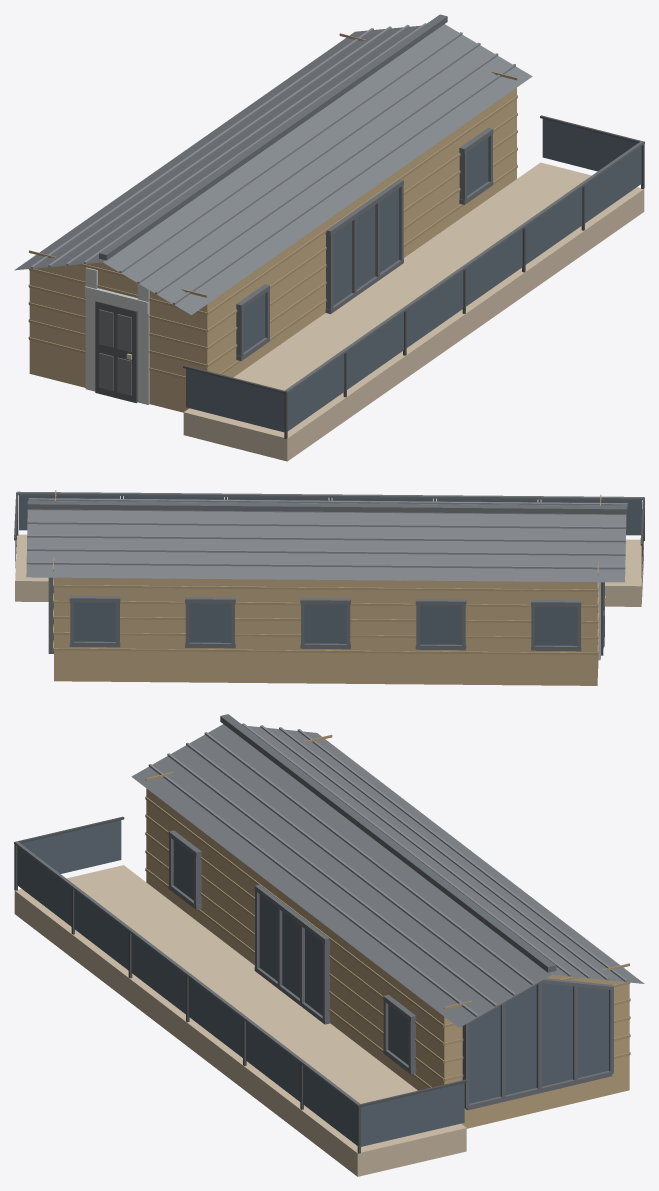
3 renders of one model, top to bottom at view 1: azimuth 30°, elevation 25°; view 2: azimuth 150°, elevation 25°; view 3: azimuth 270°, elevation 25°, orthographic. The views are drawn at different scales.
Visible parts, largest first — view 1: slate, larch, door_wood, slate_dk, slate_lt, door_wood_p, window_glass_007, stone_band, window_glass_008, window_glass_005, window_glass_001, window_glass_003 (+11 smaller); view 2: door_wood, slate, slate_dk, slate_lt, door_wood_p, larch, window_glass_017, window_glass_016, window_glass_019, window_glass_015, window_glass_018, window_glass_001 (+6 smaller); view 3: slate, larch, door_wood, slate_dk, slate_lt, window_glass_014, door_wood_p, window_glass_008, window_glass_007, window_glass_002, window_glass_006, window_glass_003 (+9 smaller).
Part boxes in pixels (x1,y1,x2,y2): slate: (14,24,532,314); larch: (183,162,644,461); door_wood: (29,87,516,412); slate_dk: (99,14,644,393); slate_lt: (30,23,515,304); door_wood_p: (28,33,517,379); window_glass_007: (186,368,284,432); stone_band: (85,267,149,404); window_glass_008: (542,119,637,171); window_glass_005: (525,188,582,264); window_glass_001: (287,354,344,431); window_glass_003: (406,271,463,347); door_wood: (54,498,598,685); slate: (26,498,627,582); slate_dk: (17,491,643,653); slate_lt: (26,498,627,569); door_wood_p: (53,490,601,655); larch: (15,534,643,606); window_glass_017: (304,604,346,643); window_glass_016: (189,603,231,642); window_glass_019: (535,606,577,645); window_glass_015: (74,602,115,641); window_glass_018: (420,605,461,644); window_glass_001: (541,499,641,535); slate: (131,724,644,1027); larch: (14,865,466,1176); door_wood: (146,788,629,1128); slate_dk: (14,714,613,1110); slate_lt: (148,723,627,1017); window_glass_014: (469,983,608,1103); door_wood_p: (145,734,630,1087); window_glass_008: (361,1083,464,1146); window_glass_007: (21,820,121,873); window_glass_002: (74,890,128,970); window_glass_006: (303,1065,357,1145); window_glass_003: (131,934,185,1014).
Size of the model in its own units: 14.89 by 3.35 by 12.15.
